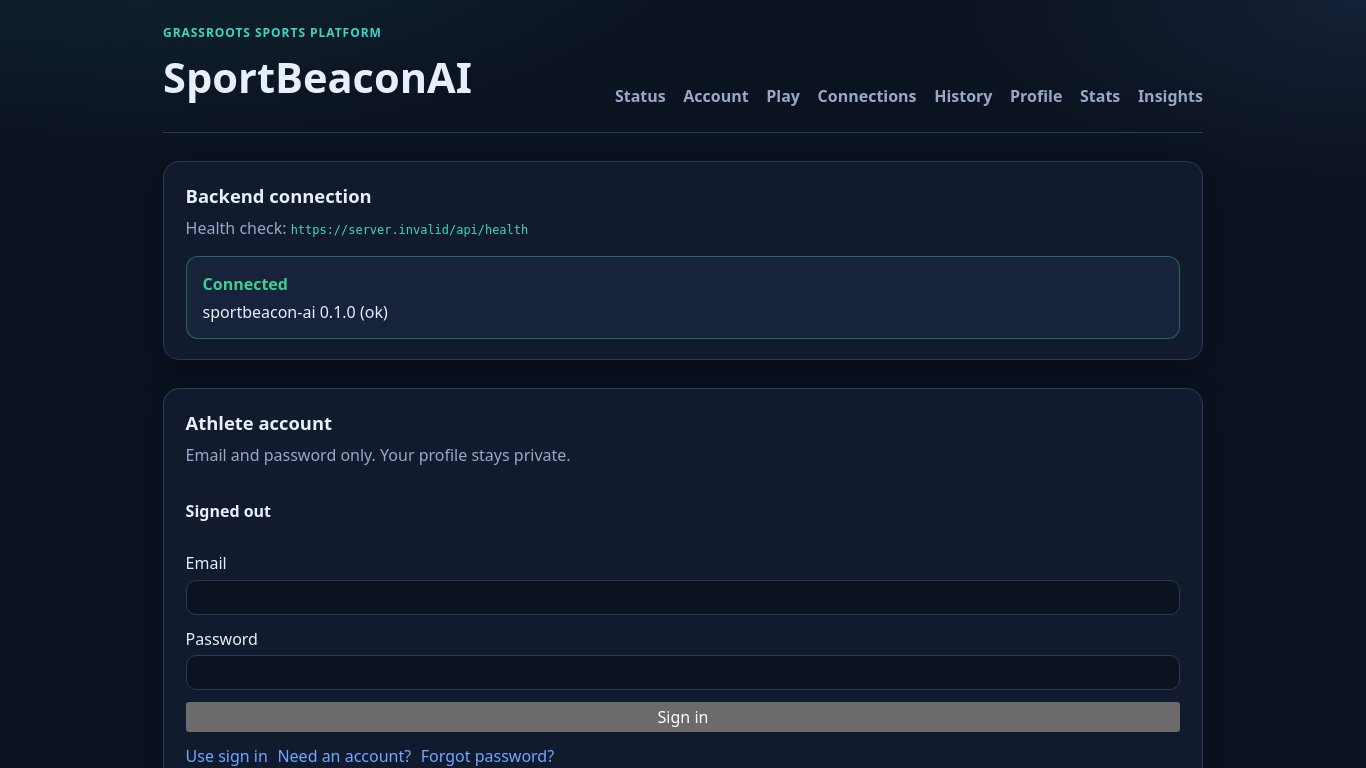
it: SportBeaconAI athlete workspace › shows reset confirmation without storing a token
This screenshot has width=1366, height=768.
Click the button "Forgot password?" at (488, 756), box [421,744,554,767]
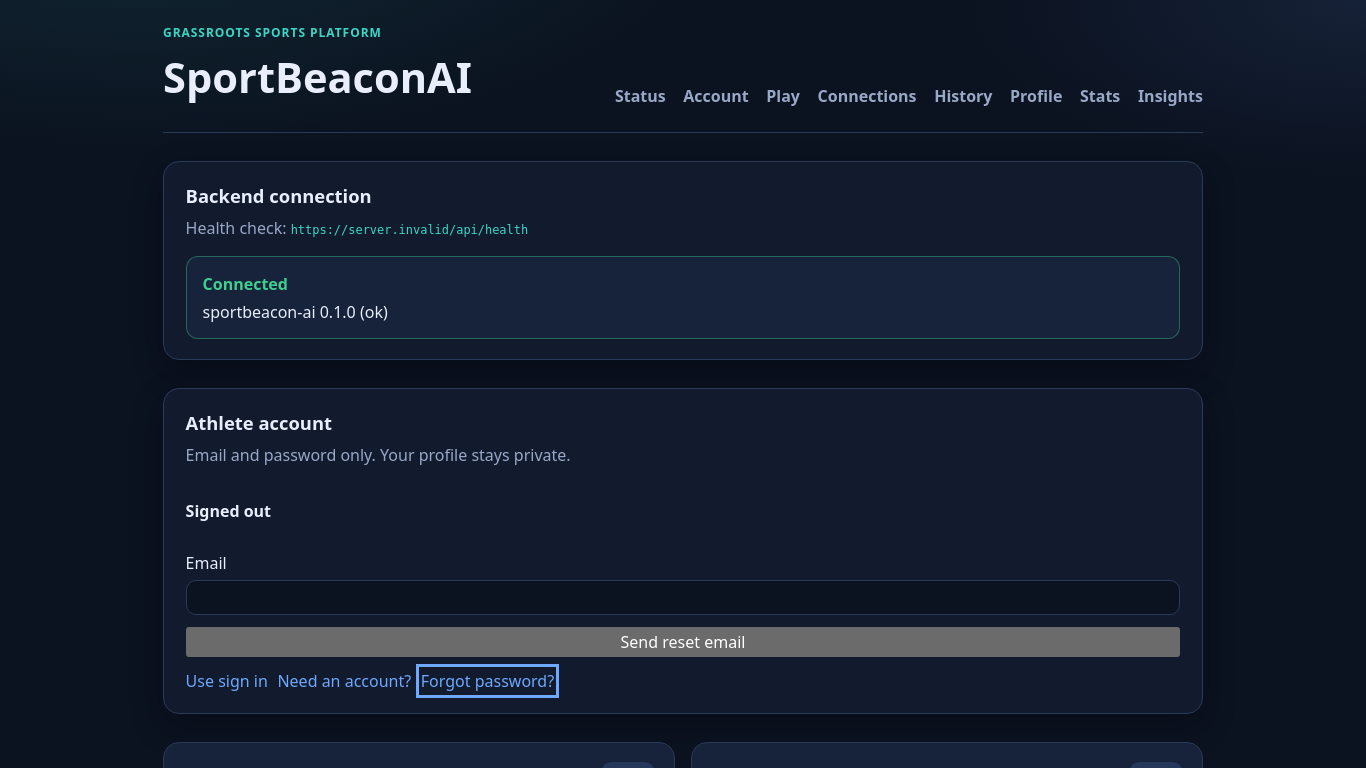
Type "ada@example.com" into the field labelled "Email" at (683, 597), box [186,580,1180,615]
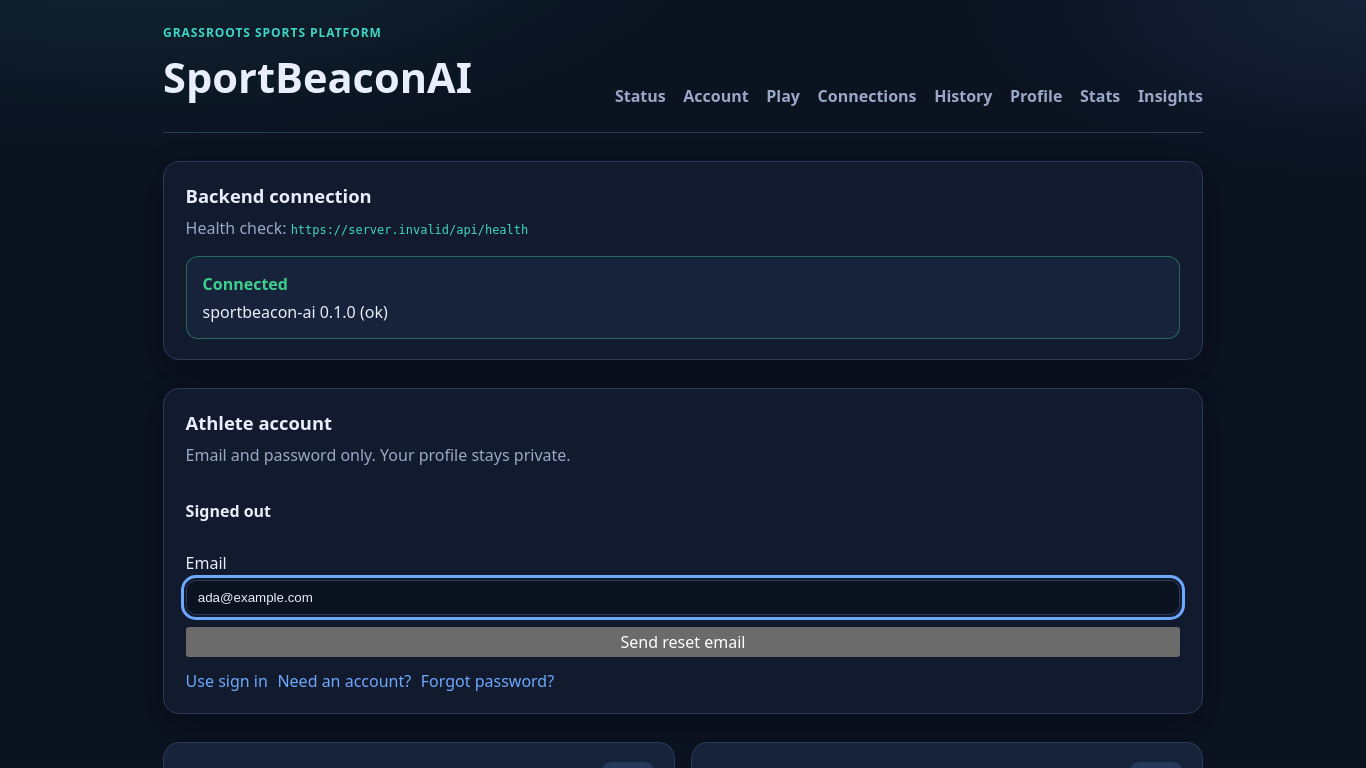
Click the button "Send reset email" at (683, 642), box [186,627,1180,657]
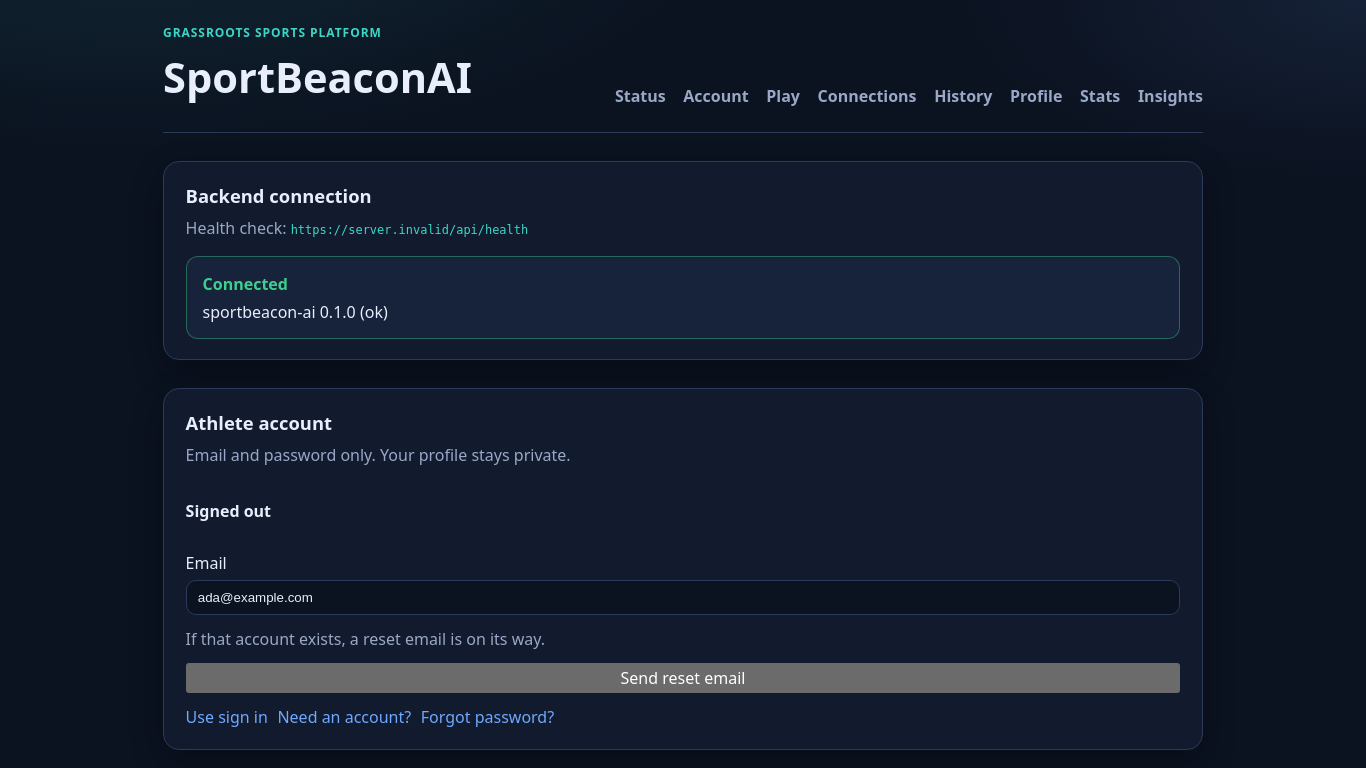
Expected: the text "If that account exists, a reset email is on its way." is shown, [186,628,545,650]
